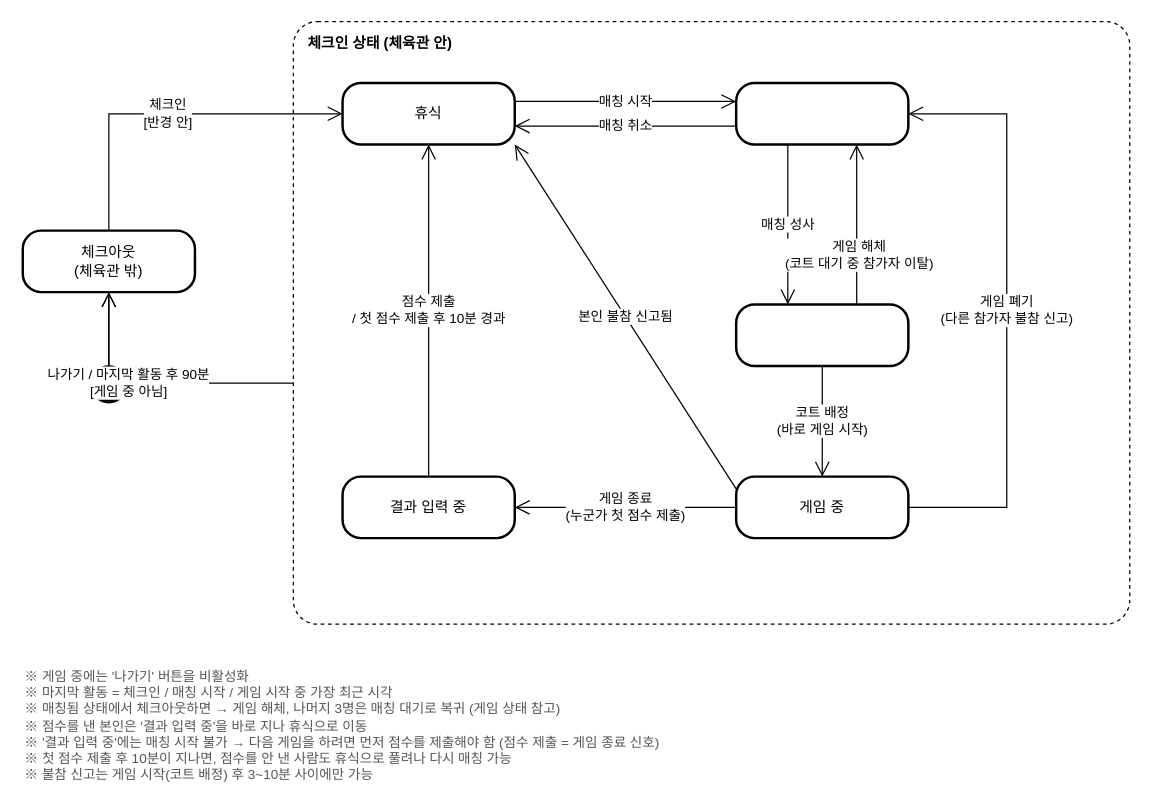
Some shapes in this 1151 by 804 pixel diagram are drawn without their labels. Here are the shapes that lost their labels. From the top down, the centre of each, then its label:
(x=821, y=113): 매칭 대기 (큐에 있음)
(x=821, y=335): 매칭됨 (코트 대기)
